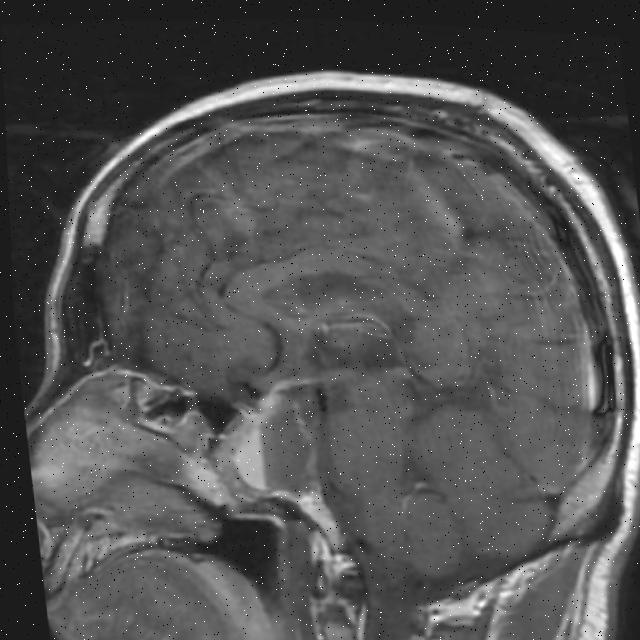Pituitary: (225, 397, 317, 494)
